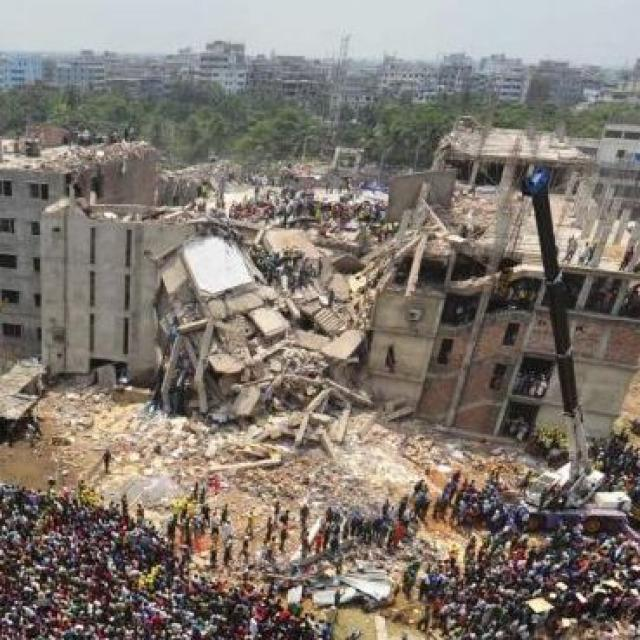collapsed_building: (153, 168, 392, 450)
